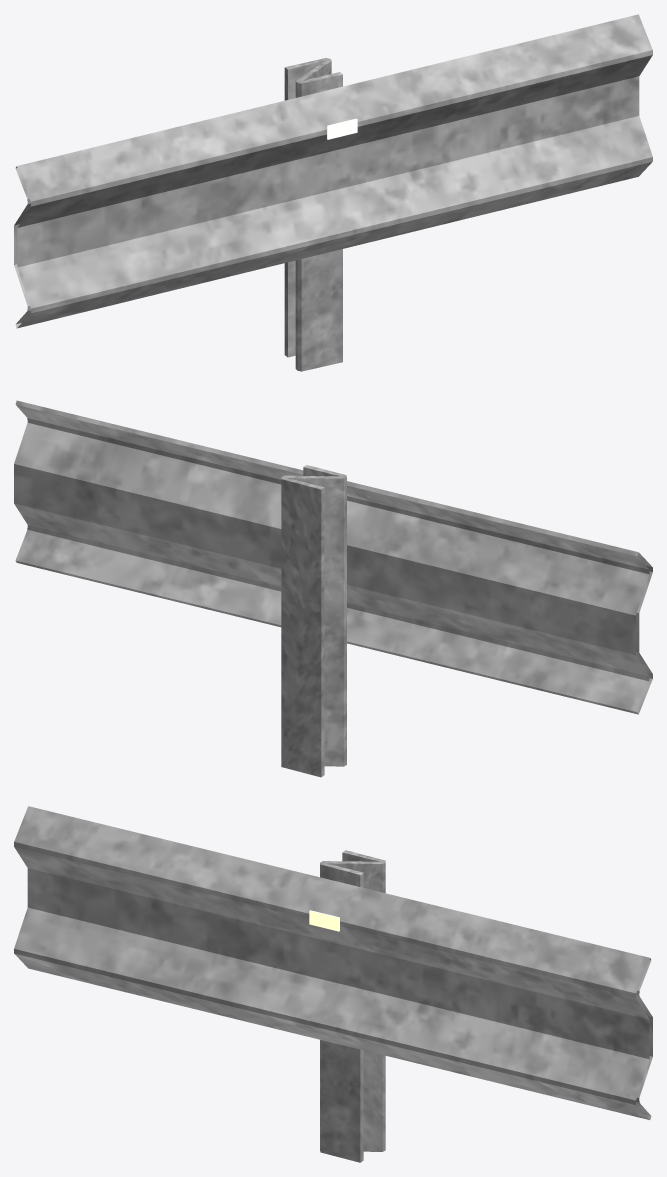
Rendered from leitplanke_lod1.glb.
3 renders of one model, top to bottom at view 1: azimuth 30°, elevation 25°; view 2: azimuth 150°, elevation 25°; view 3: azimuth 330°, elevation 25°, orthographic.
Visible parts, largest first — view 1: Leitplanke, Pfosten; view 2: Leitplanke, Pfosten; view 3: Leitplanke, Pfosten.
Boxes of the visible parts, x1,y1,x2,y2 form: Leitplanke: (14,14,652,328); Pfosten: (284,58,342,371); Leitplanke: (14,400,652,714); Pfosten: (281,465,346,777); Leitplanke: (14,806,652,1119); Pfosten: (320,850,385,1162).
Size of the model in its own units: 1.75 by 0.774 by 0.1937.
3 materials, 2 textured.
